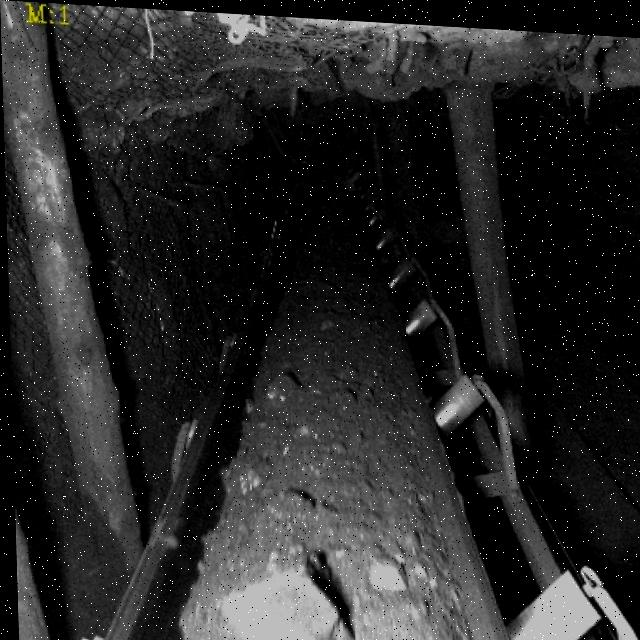large_sized_coal: (218, 550, 343, 640), (219, 453, 268, 495), (362, 552, 407, 590), (265, 366, 303, 404)
